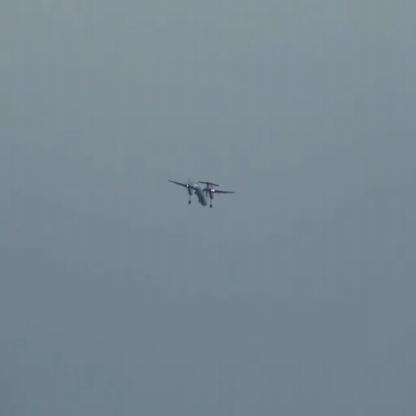CIV_Plane: (167, 177, 238, 208)
